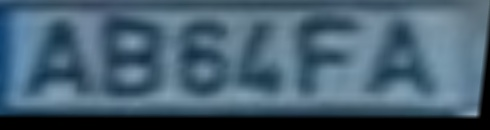4: (233, 20, 290, 103)
6: (177, 18, 238, 106)
A: (353, 17, 446, 103), (16, 17, 96, 102)
B: (101, 16, 170, 104)
F: (295, 16, 370, 102)
